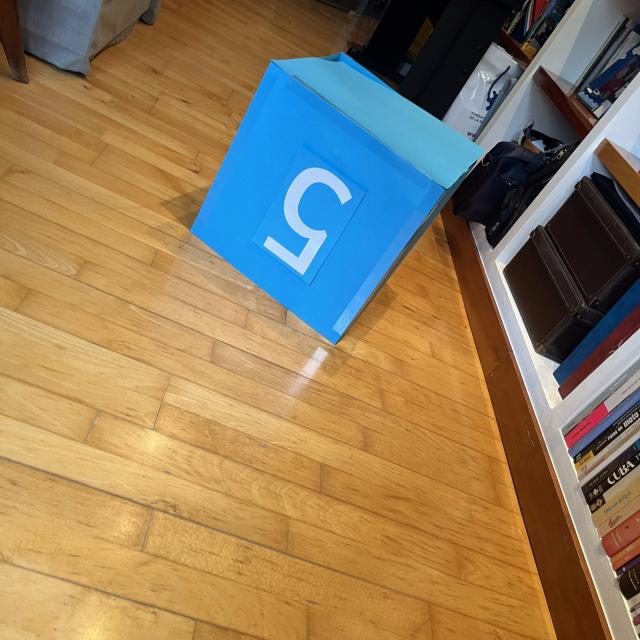box: (187, 49, 487, 346)
